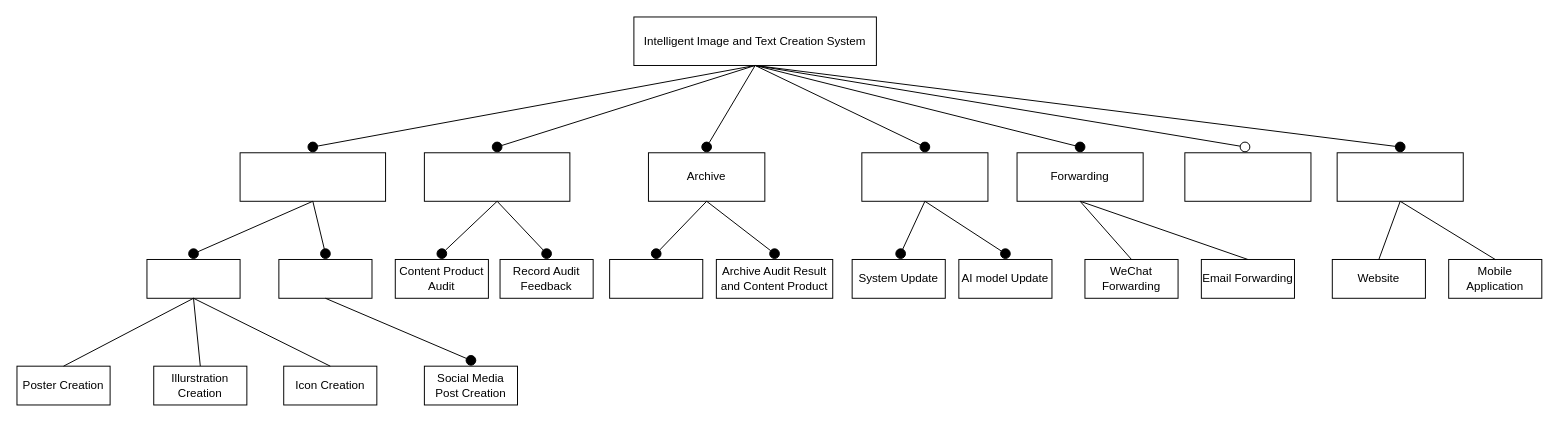
Some shapes in this 1559 by 422 pixel diagram are drawn without their labels. The box of each missing label's shape, as (x1, y1, x2, y2) in pixels:
Administration: (861, 152, 988, 201)
Content Audit: (423, 152, 570, 201)
Content Creation: (239, 152, 386, 201)
Forum: (1184, 152, 1311, 201)
Image Creation: (146, 259, 240, 298)
Save Content Product: (609, 259, 703, 298)
Text Creation: (278, 259, 372, 298)
UI: (1336, 152, 1463, 201)
